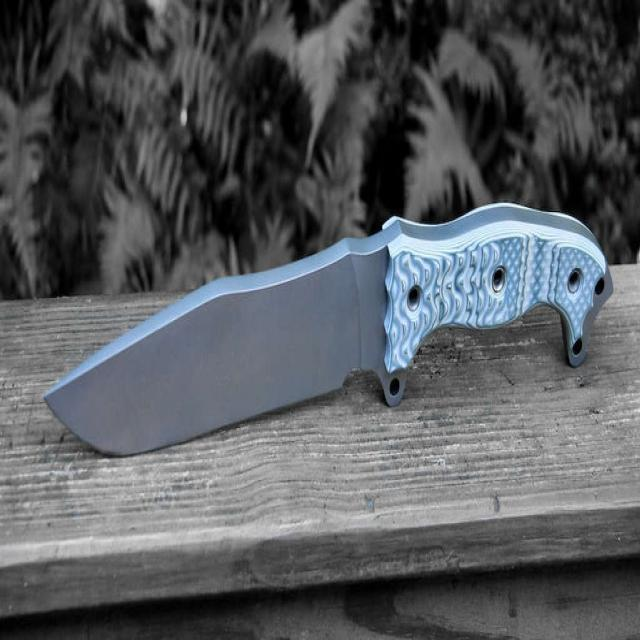Knife: (45, 204, 612, 454)
